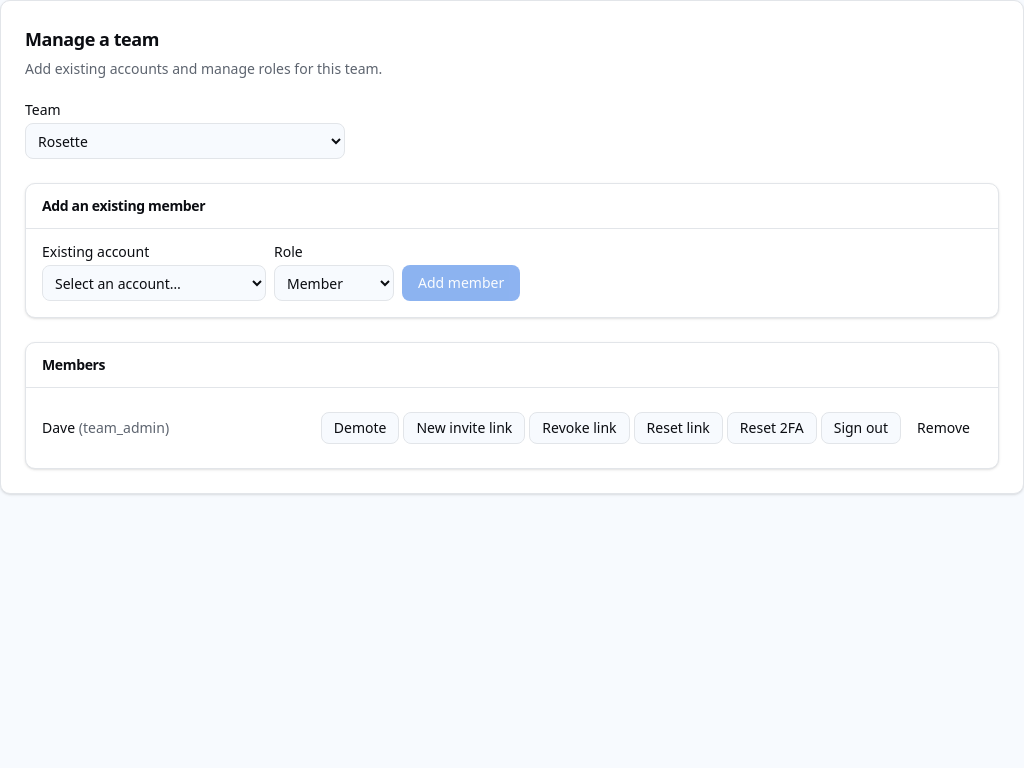
Test case: AdminPage › surfaces a freshly generated invite link in a dialog
Expected: the text "Dave (team_admin)" is shown, [42,418,169,438]
Click the button "New invite link" at [464, 428], box [404,412,525,444]
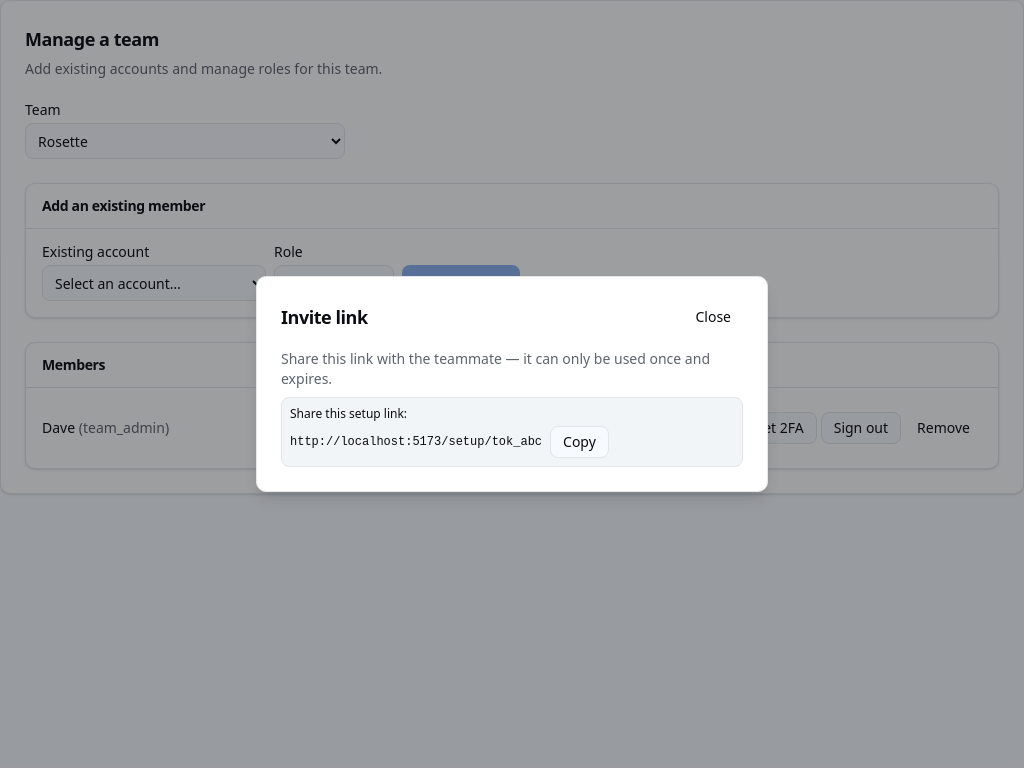
Now the text with test id "generated-link" reads "http://localhost:5173/setup/tok_abc", box [290,435,542,449]
